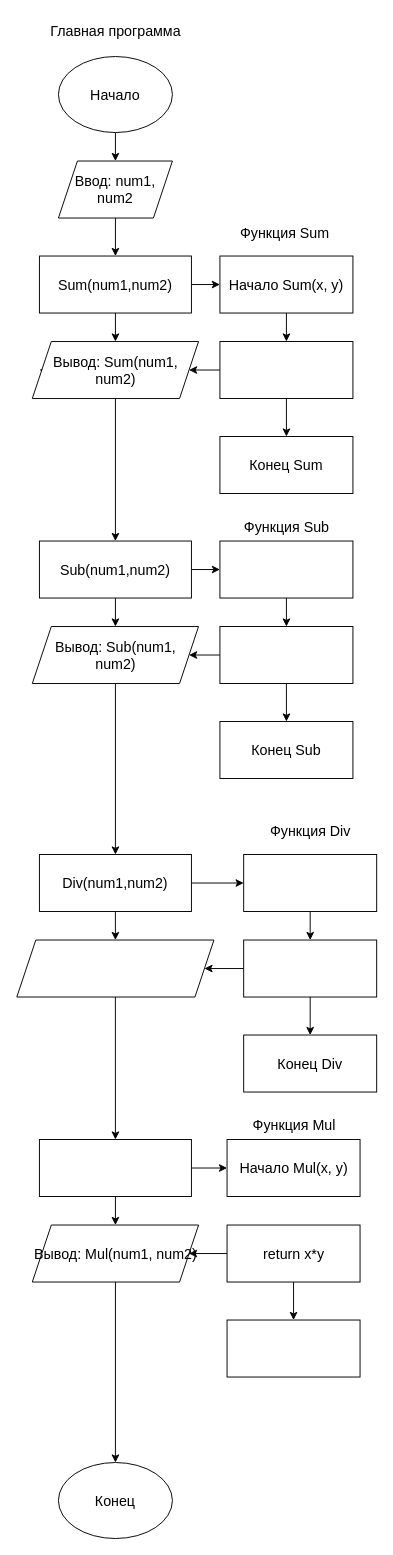
This 393x1555 diagram has some shape labels left out. Here are the shapes that lost their labels. From the top down, the centre of each, then its label:
At point (286, 370): "return x+y".
At point (286, 569): "Начало Sub(x, y)".
At point (286, 655): "return x-y".
At point (310, 883): "Начало Div(x, y)".
At point (115, 968): "Вывод: Div(num1, num2)".
At point (310, 968): "return x/y".
At point (114, 1168): "Mul(num1,num2)".
At point (293, 1348): "Конец Mul".
